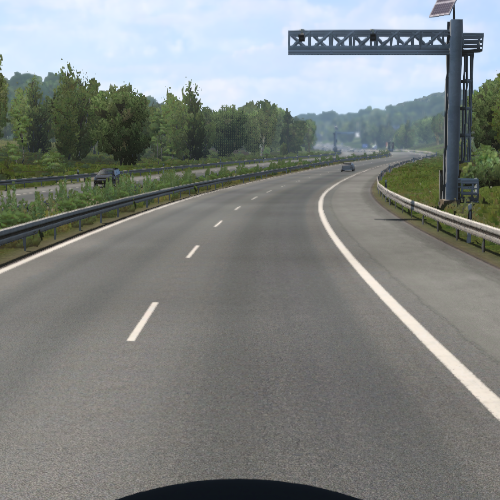markup: (123, 300, 163, 344), (182, 244, 202, 260), (212, 220, 224, 229)
markup_line: (314, 174, 500, 429), (0, 190, 209, 278)
